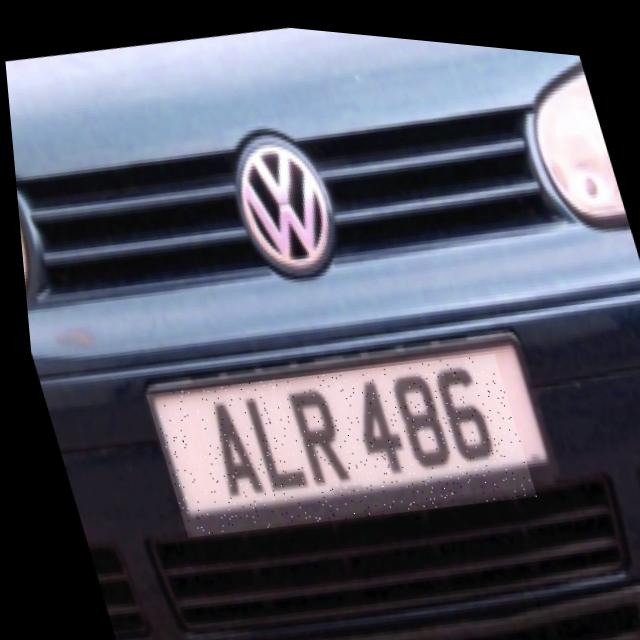license_plate: (133, 317, 533, 561)
